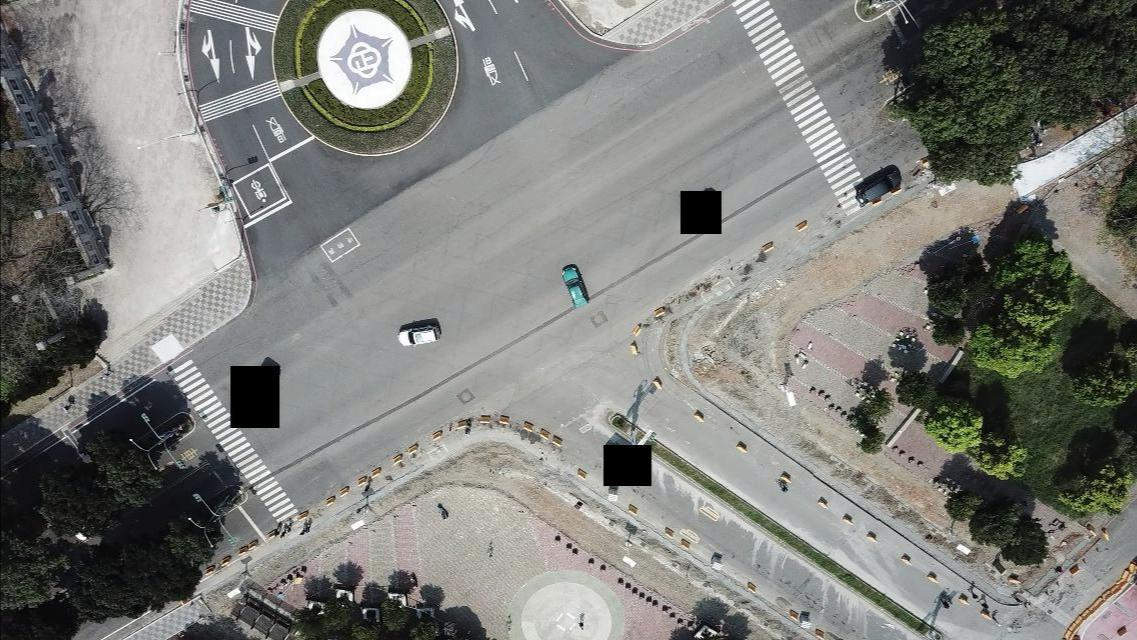vehicle: (855, 171, 899, 208), (561, 265, 588, 309), (397, 323, 439, 348)
